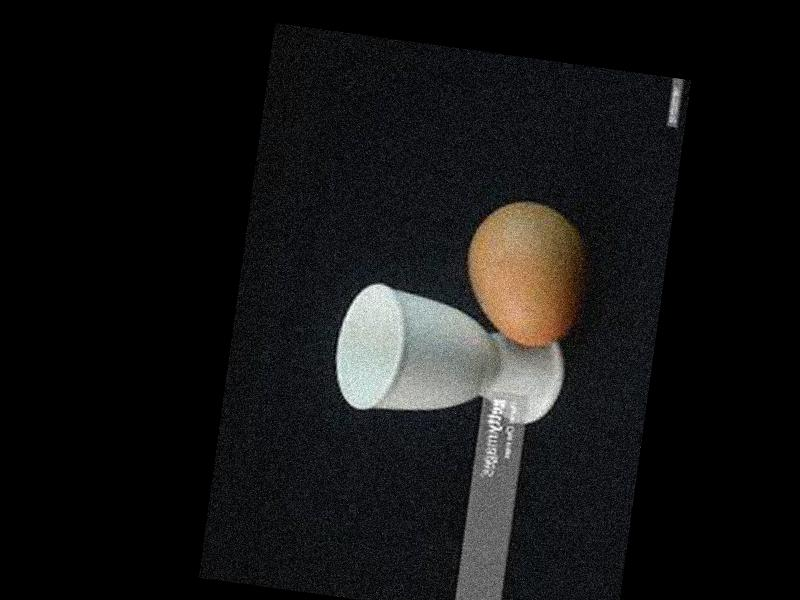Eggs: (456, 196, 590, 352)
